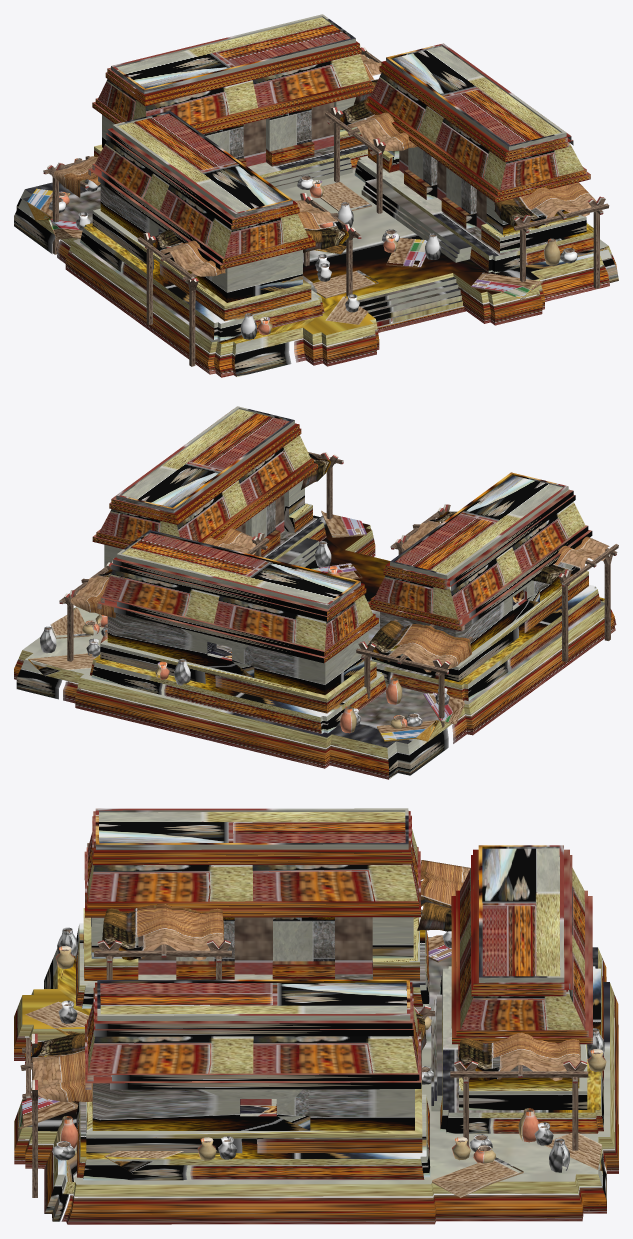
The model's file is plaza_e1.dae.
The picture shows the model from 3 angles, top to bottom: view 1: azimuth 30°, elevation 25°; view 2: azimuth 150°, elevation 25°; view 3: azimuth 270°, elevation 25°; orthographic projection. The views are drawn at different scales.
Parts seen in each view (by area): view 1: plaza_e1; view 2: plaza_e1; view 3: plaza_e1.
Boxes of the visible parts, x1,y1,x2,y2 form: plaza_e1: (14, 14, 618, 377); plaza_e1: (14, 406, 618, 779); plaza_e1: (14, 808, 618, 1224).
Bounding box in the file's own units: 26.78 × 25.98 × 8.84.
